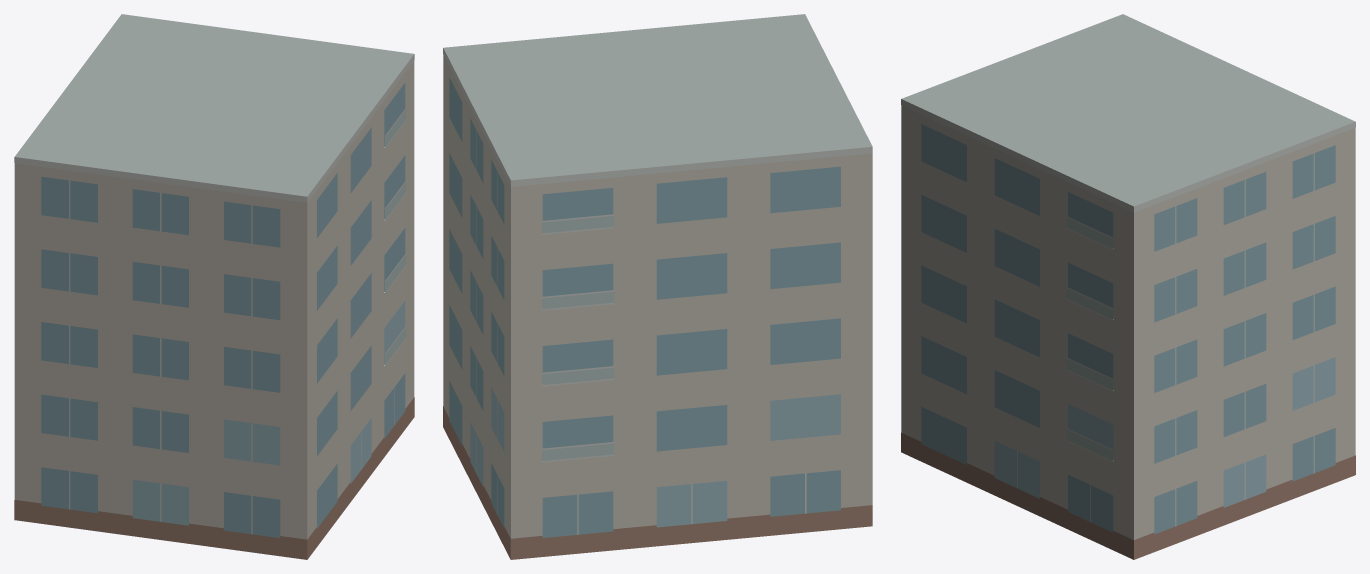
File: survey-upis-32840180.glb
3 views of the same model, side by side, from view 1: azimuth 30°, elevation 25°; view 2: azimuth 150°, elevation 25°; view 3: azimuth 270°, elevation 25° (orthographic). The views are drawn at different scales.
Parts seen in each view (by area): view 1: survey-upis-32840180.tmp; view 2: survey-upis-32840180.tmp; view 3: survey-upis-32840180.tmp.
Boxes of the visible parts, x1,y1,x2,y2 form: survey-upis-32840180.tmp: (14, 14, 414, 559); survey-upis-32840180.tmp: (443, 14, 872, 559); survey-upis-32840180.tmp: (901, 14, 1355, 559).
Bounding box in the file's own units: 16.6 × 14.2 × 16.57.
